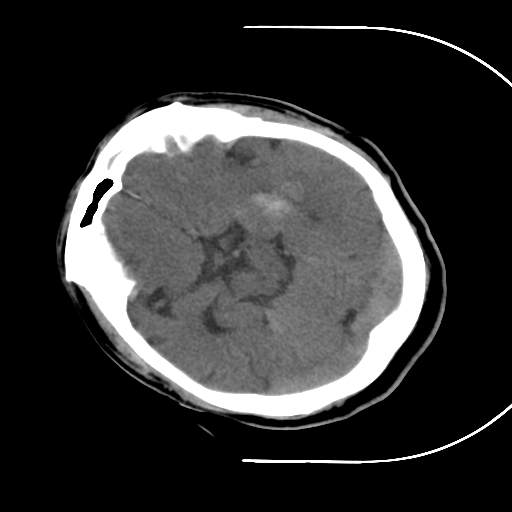a: (231, 171, 317, 238)
